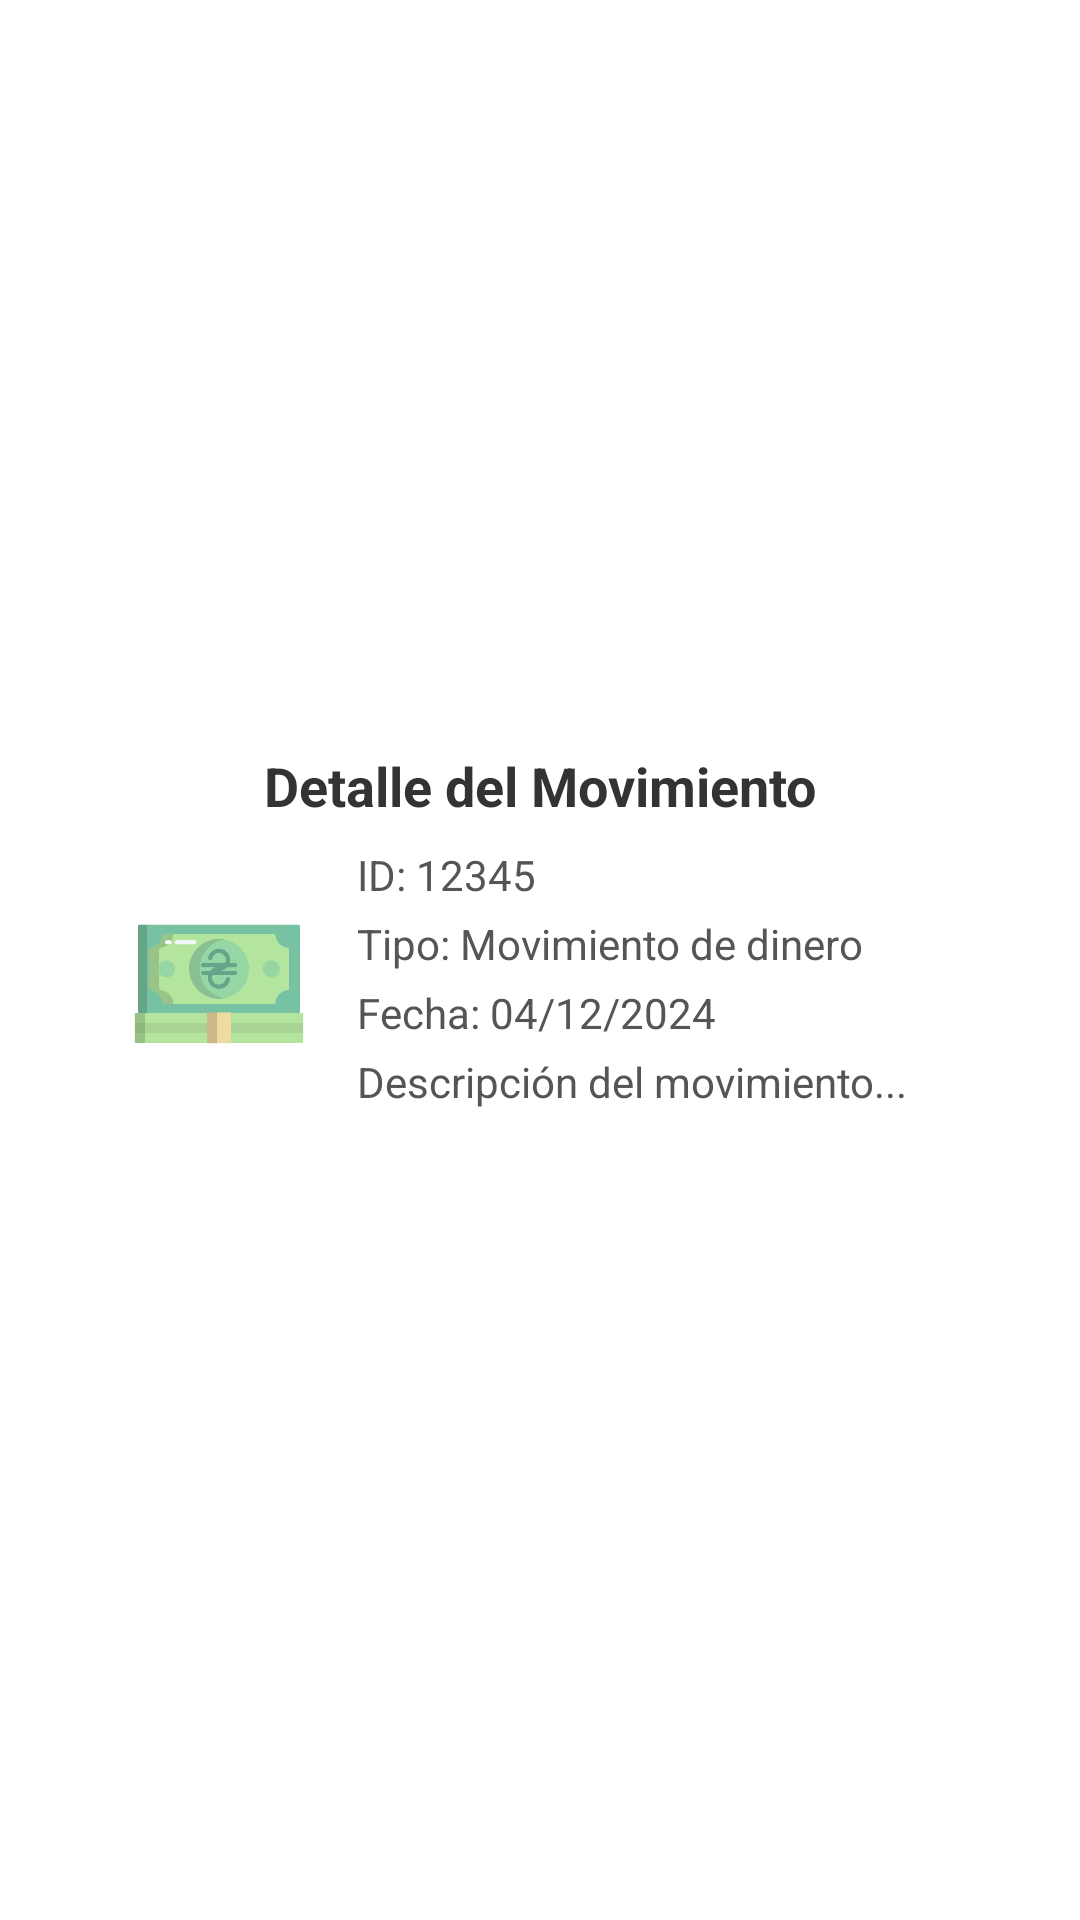

Where to tap for icons on this 1080 × 1920 app screen, as point (x, y):
money: point (219, 984)
